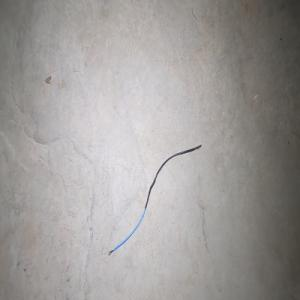Wire: (107, 144, 201, 255)
